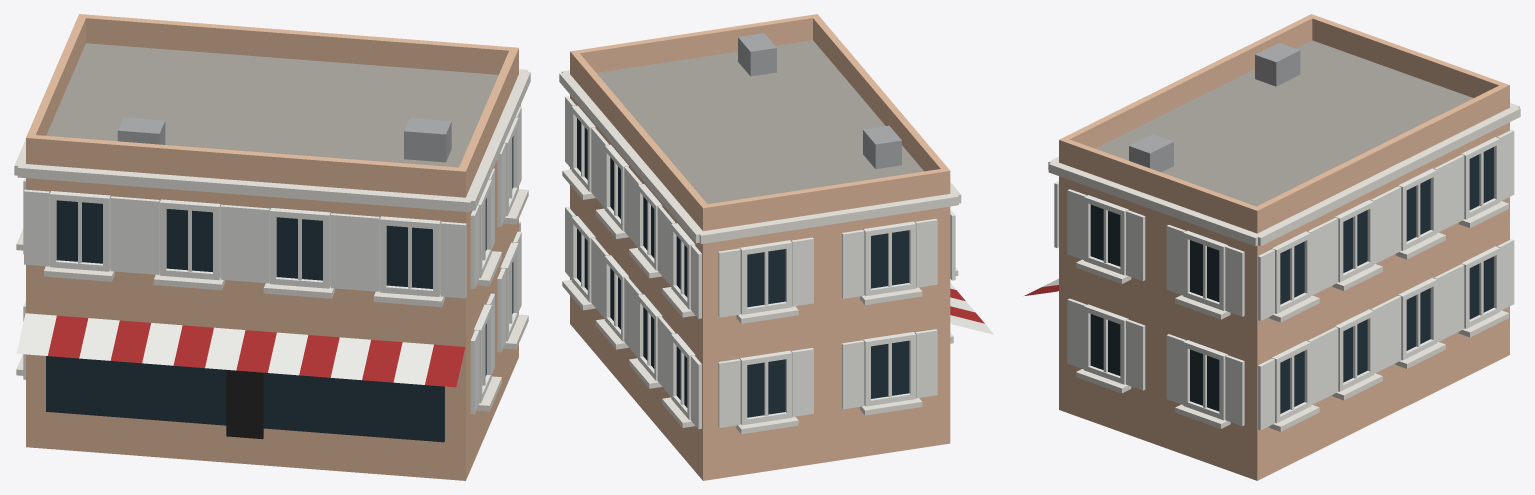
3 renders of one model, left to right at view 1: azimuth 30°, elevation 25°; view 2: azimuth 150°, elevation 25°; view 3: azimuth 270°, elevation 25°, orthographic. The views are drawn at different scales.
Visible parts, largest first — view 1: b8300; view 2: b8300; view 3: b8300.
Boxes of the visible parts, <box> form: b8300: <box>14,14,530,480</box>; b8300: <box>559,14,993,480</box>; b8300: <box>1024,14,1520,480</box>.
Size of the model in its own units: 5460 by 3240 by 5355.
